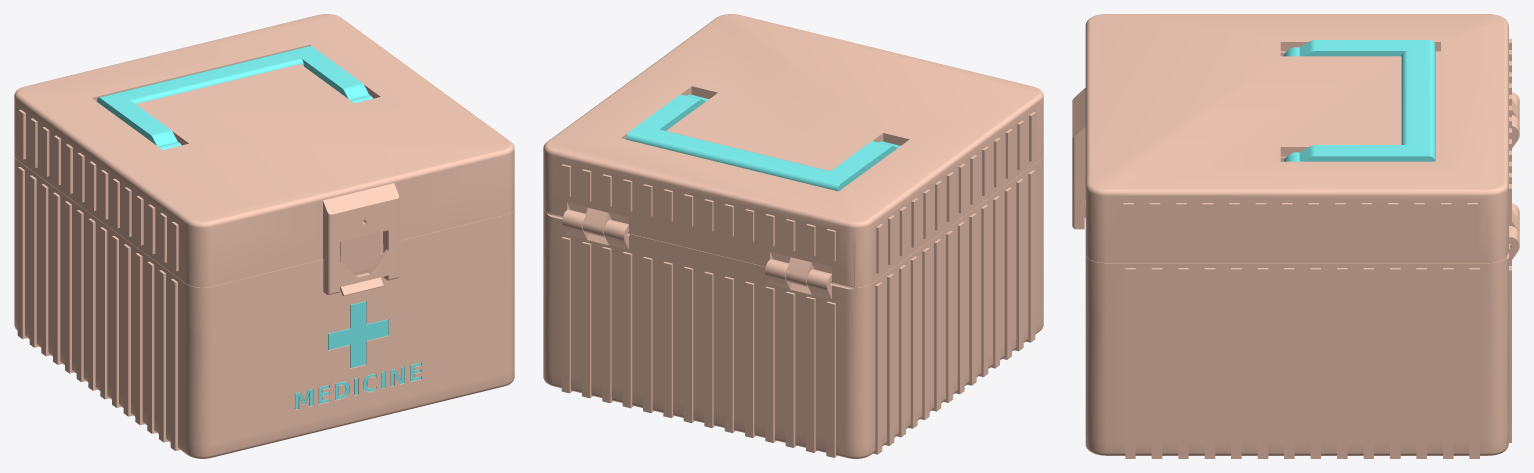
The model's file is medbox.glb.
3 views of the same model, side by side, from view 1: azimuth 30°, elevation 25°; view 2: azimuth 150°, elevation 25°; view 3: azimuth 270°, elevation 25° (orthographic). The views are drawn at different scales.
Parts seen in each view (by area): view 1: geometry_1, geometry_0, handle_bail, geometry_2, latch_insert; view 2: geometry_0, geometry_1, handle_bail; view 3: geometry_1, geometry_0, handle_bail.
Part boxes in pixels (x1,y1,x2,y2): geometry_1: (14,14,514,294); geometry_0: (14,157,514,458); handle_bail: (97,45,372,149); geometry_2: (295,301,421,409); latch_insert: (340,232,383,295); geometry_0: (543,157,1043,458); geometry_1: (543,14,1043,287); handle_bail: (626,94,900,191); geometry_1: (1072,14,1519,262); geometry_0: (1085,92,1519,458); handle_bail: (1284,40,1435,161).
Size of the model in its own units: 162 by 113 by 169.
